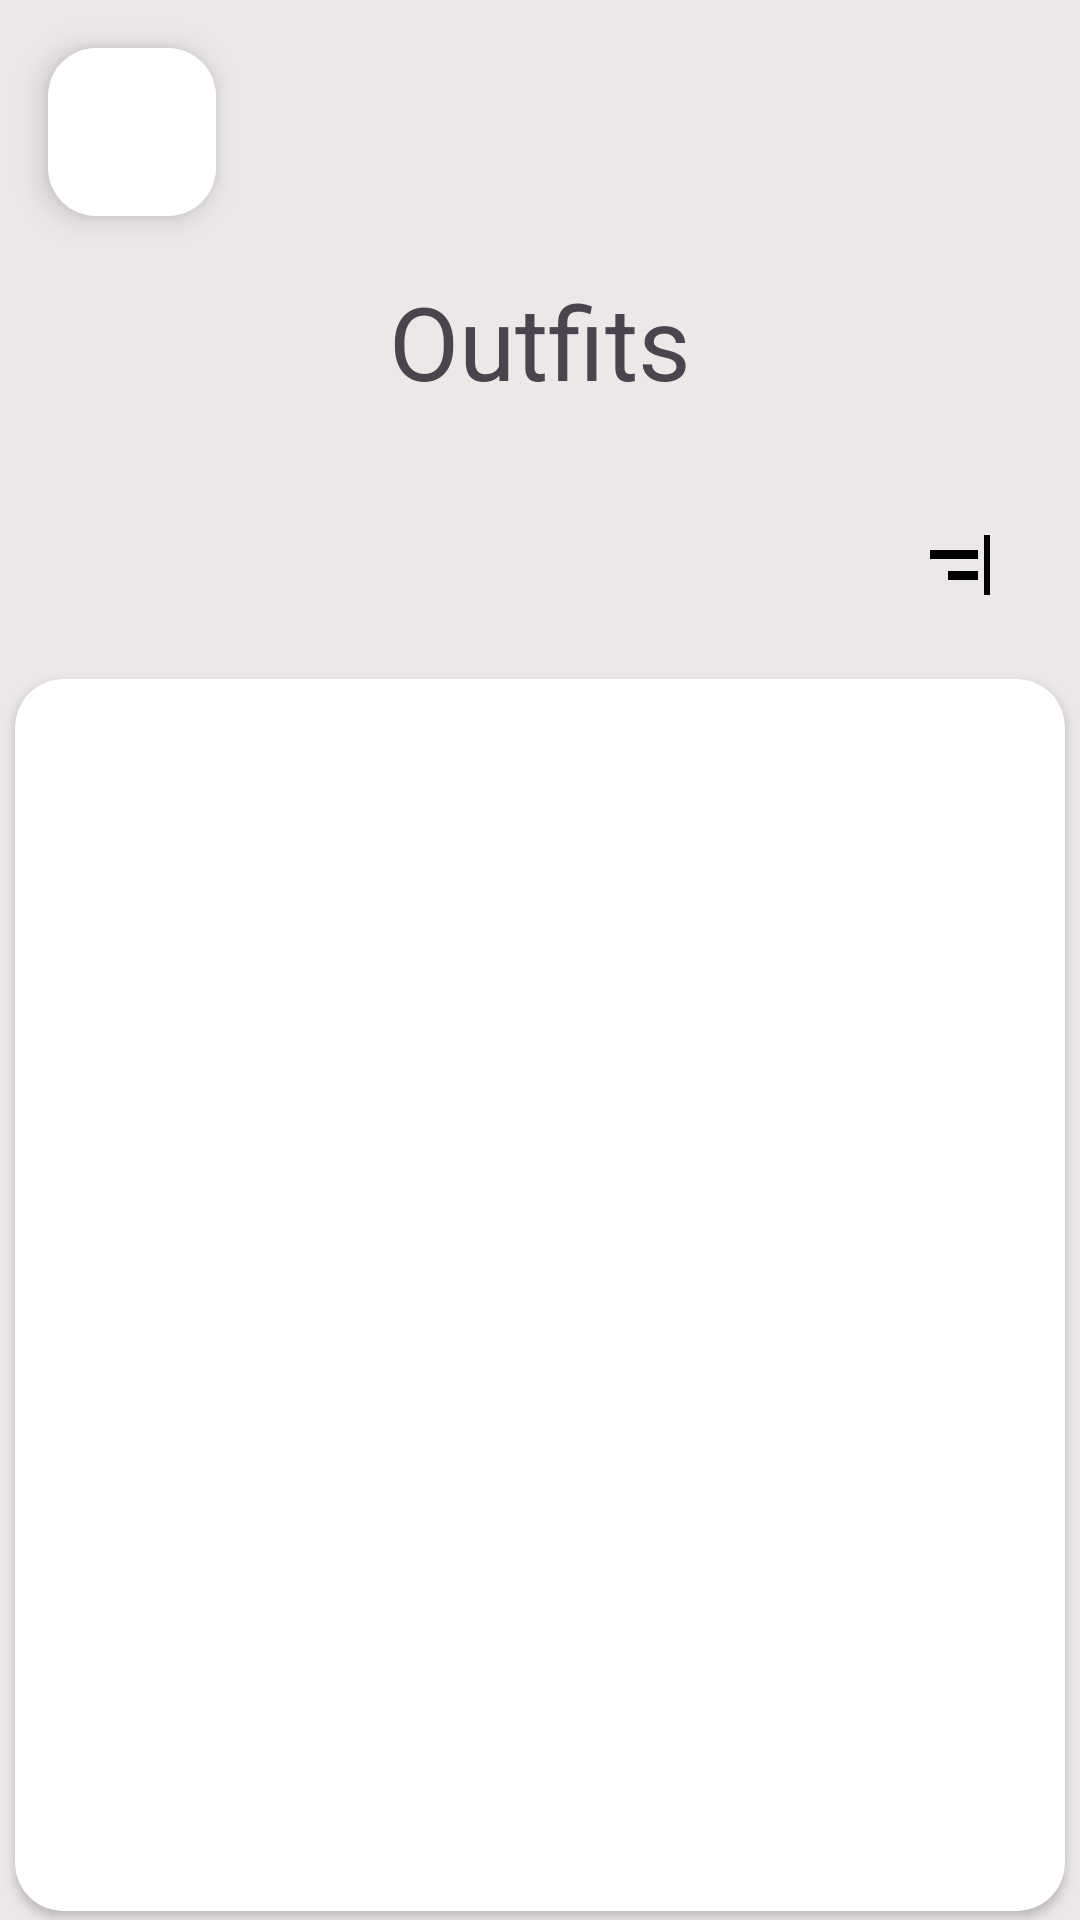

Locate icon controls on the screen. Image size 1080*1920, boxes as (x1, y1, x2, y2).
sort: (930, 535, 990, 595)
